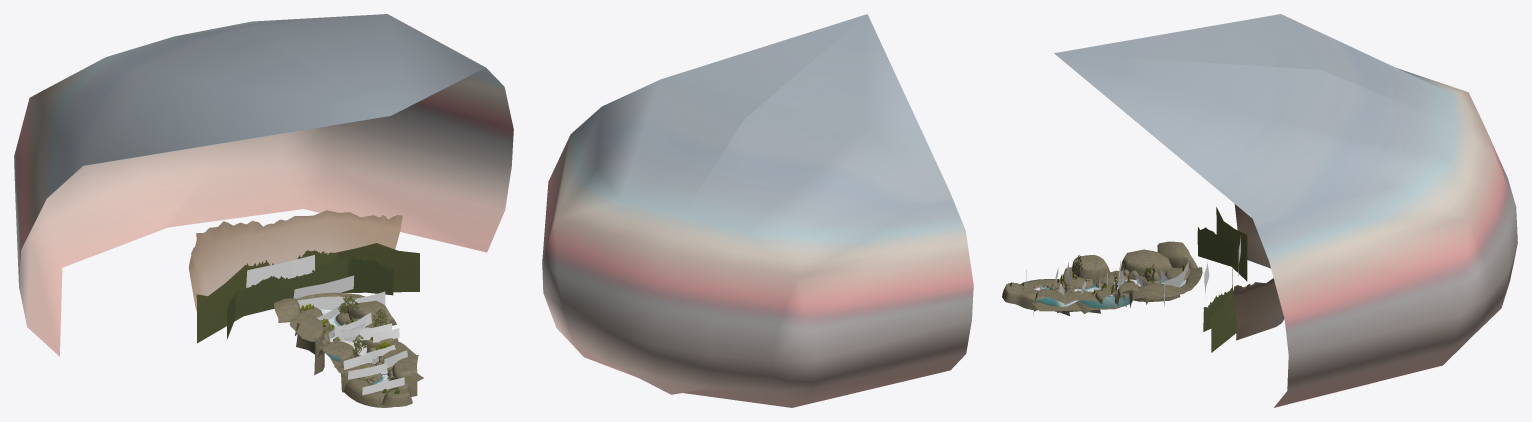
The model's file is VolcanionScene.fbx.
3 renders of one model, left to right at view 1: azimuth 30°, elevation 25°; view 2: azimuth 150°, elevation 25°; view 3: azimuth 270°, elevation 25°, orthographic. The views are drawn at different scales.
Visible parts, largest first — view 1: SkyMesh, MountainPlane, MountainTreePlane2, MountainTreePlane1, Fog12, Cliff_Rocks12, Cliff_Rocks30, Fog13, Cliff_Rocks27, Fog02, Cliff_Rocks19, Cliff_Rocks11 (+2 smaller); view 2: SkyMesh; view 3: SkyMesh, MountainPlane, MountainTreePlane2, MountainTreePlane1, Cliff_Rocks12, Cliff_Rocks30, Cliff_Rocks20, Cliff_Rocks11, Cliff_Rocks28, Water20.
Boxes of the visible parts, left/top/right/bottom form: SkyMesh: left=14, top=14, right=513, bottom=356; MountainPlane: left=188, top=210, right=402, bottom=311; MountainTreePlane2: left=196, top=243, right=419, bottom=343; MountainTreePlane1: left=227, top=256, right=393, bottom=339; Fog12: left=246, top=255, right=314, bottom=287; Cliff_Rocks12: left=290, top=312, right=324, bottom=374; Cliff_Rocks30: left=296, top=292, right=396, bottom=325; Fog13: left=297, top=291, right=385, bottom=309; Cliff_Rocks27: left=343, top=378, right=393, bottom=407; Fog02: left=293, top=275, right=354, bottom=298; Cliff_Rocks19: left=392, top=355, right=418, bottom=396; Cliff_Rocks11: left=274, top=298, right=301, bottom=335; SkyMesh: left=542, top=14, right=973, bottom=407; SkyMesh: left=1054, top=14, right=1517, bottom=407; MountainPlane: left=1233, top=204, right=1284, bottom=340; MountainTreePlane2: left=1211, top=207, right=1247, bottom=352; MountainTreePlane1: left=1197, top=227, right=1232, bottom=331; Cliff_Rocks12: left=1120, top=249, right=1180, bottom=301; Cliff_Rocks30: left=1129, top=267, right=1202, bottom=308; Cliff_Rocks20: left=1072, top=255, right=1110, bottom=284; Cliff_Rocks11: left=1157, top=241, right=1197, bottom=269; Cliff_Rocks28: left=1002, top=282, right=1045, bottom=310; Water20: left=1074, top=284, right=1134, bottom=308.
Size of the model in its own units: 189 by 101 by 183.
